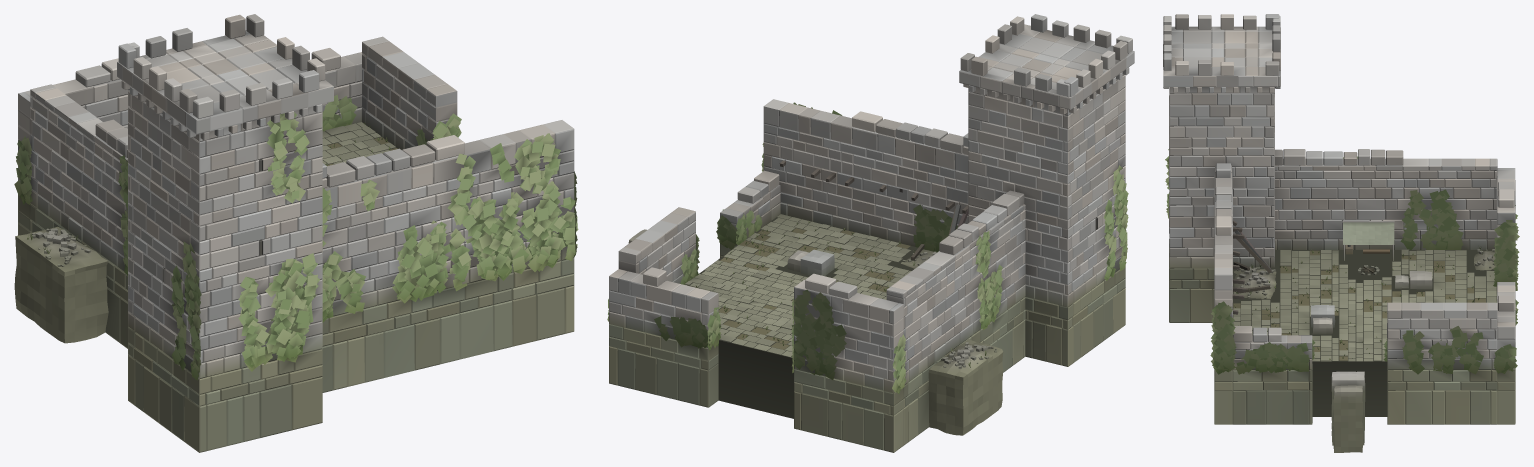
Rendered from mark_ruin.glb.
3 renders of one model, left to right at view 1: azimuth 30°, elevation 25°; view 2: azimuth 150°, elevation 25°; view 3: azimuth 270°, elevation 25°, orthographic. The views are drawn at different scales.
Parts seen in each view (by area): view 1: ashlar, ivy, yard; view 2: ashlar, ivy, yard, timber; view 3: ashlar, ivy, yard, canvas, timber, leaf.
Part boxes in pixels (bbox=[...]): ashlar: bbox=[18, 14, 574, 452]; ivy: bbox=[14, 94, 578, 380]; yard: bbox=[14, 137, 397, 343]; ashlar: bbox=[609, 14, 1134, 452]; ivy: bbox=[607, 102, 1128, 393]; yard: bbox=[688, 228, 1003, 435]; timber: bbox=[779, 160, 968, 260]; ashlar: bbox=[1163, 14, 1515, 452]; ivy: bbox=[1165, 149, 1519, 374]; yard: bbox=[1233, 250, 1495, 360]; canvas: bbox=[1343, 222, 1394, 253]; timber: bbox=[1232, 220, 1394, 314]; leaf: bbox=[1234, 247, 1490, 360].
Bounding box in the file's own units: 27.94 × 19.29 × 23.73.
